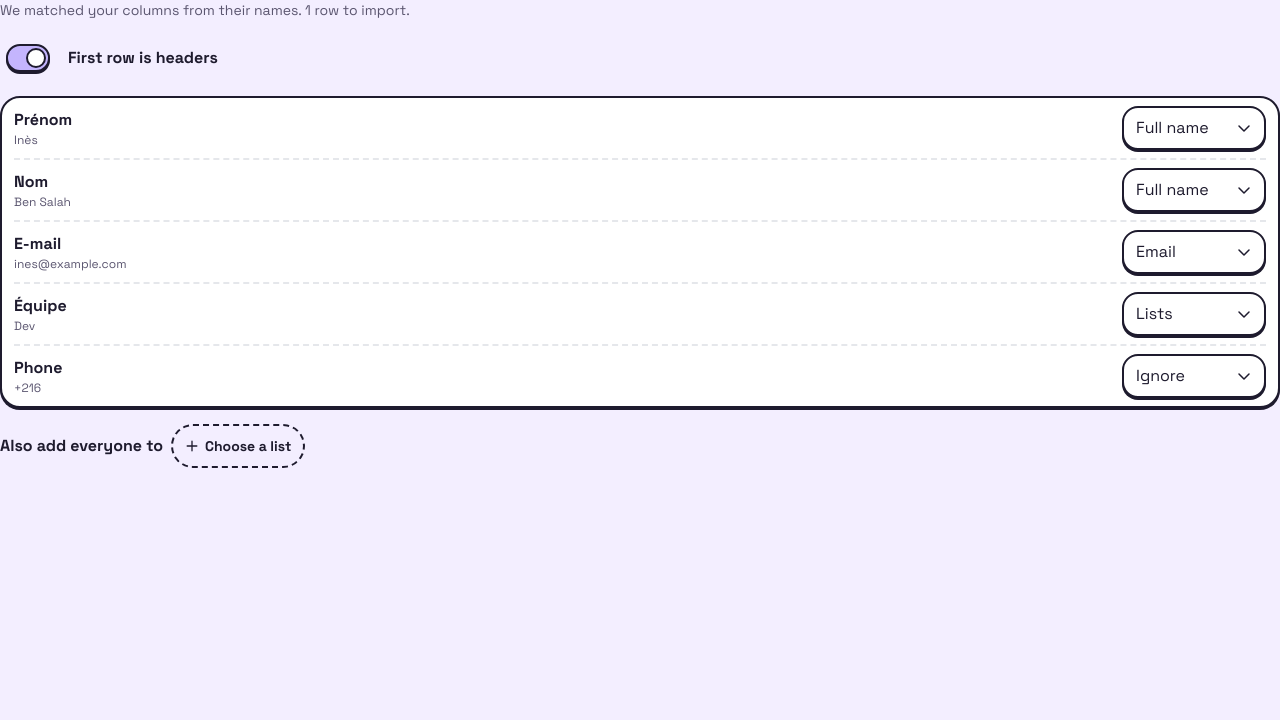
Test case: MatchStep › can create the list to add everyone to, even with no lists yet
Click the button "Choose a list" at x=238, y=446, box [171,424,305,468]
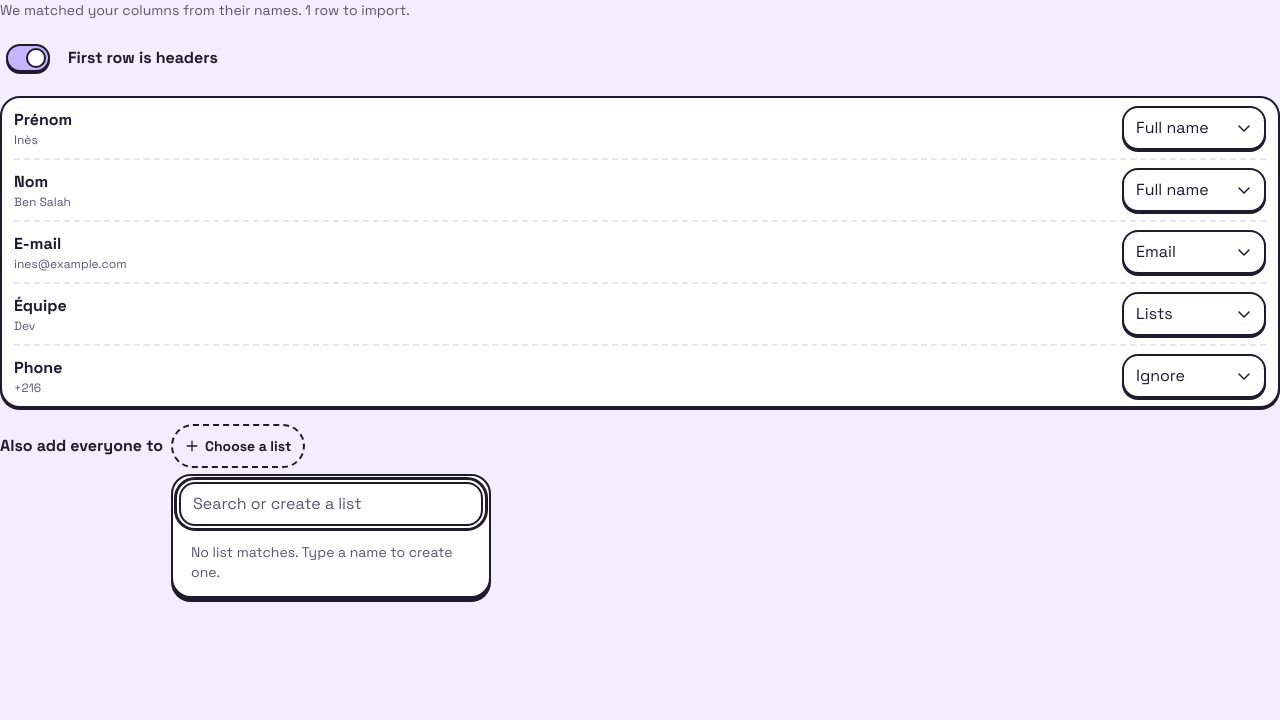
Type "Alumni" into the dropdown with placeholder "Search or create a list" at x=331, y=504, box [179,482,483,526]
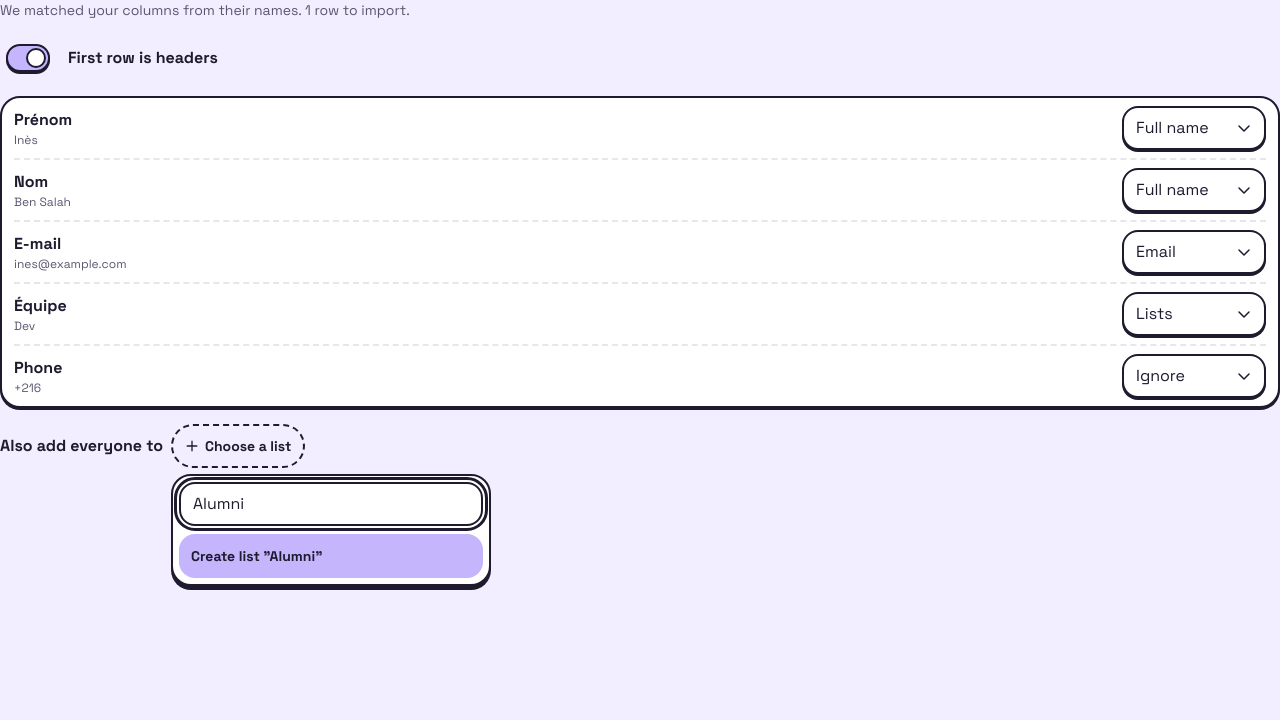
Click the option "Create list \"Alumni\"" at x=257, y=556, box [179,534,483,578]
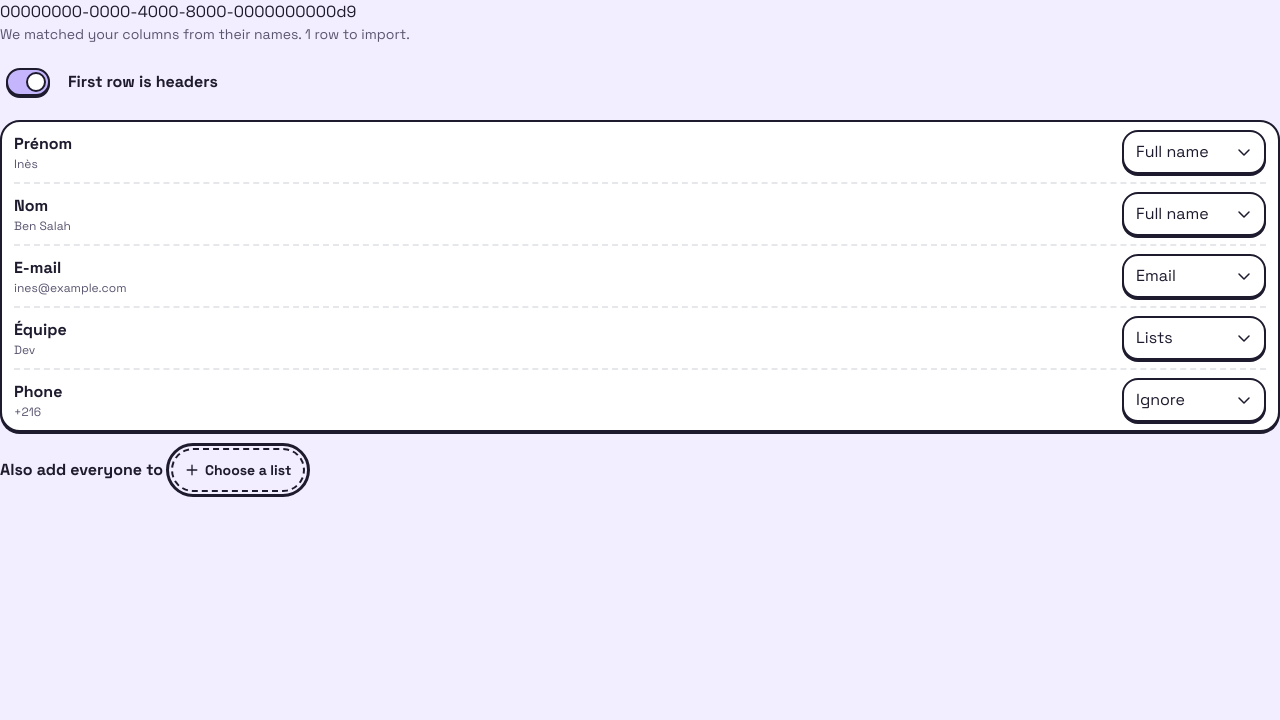
Now the text "00000000-0000-4000-8000-0000000000d9" is shown, box [0,1,356,22]
